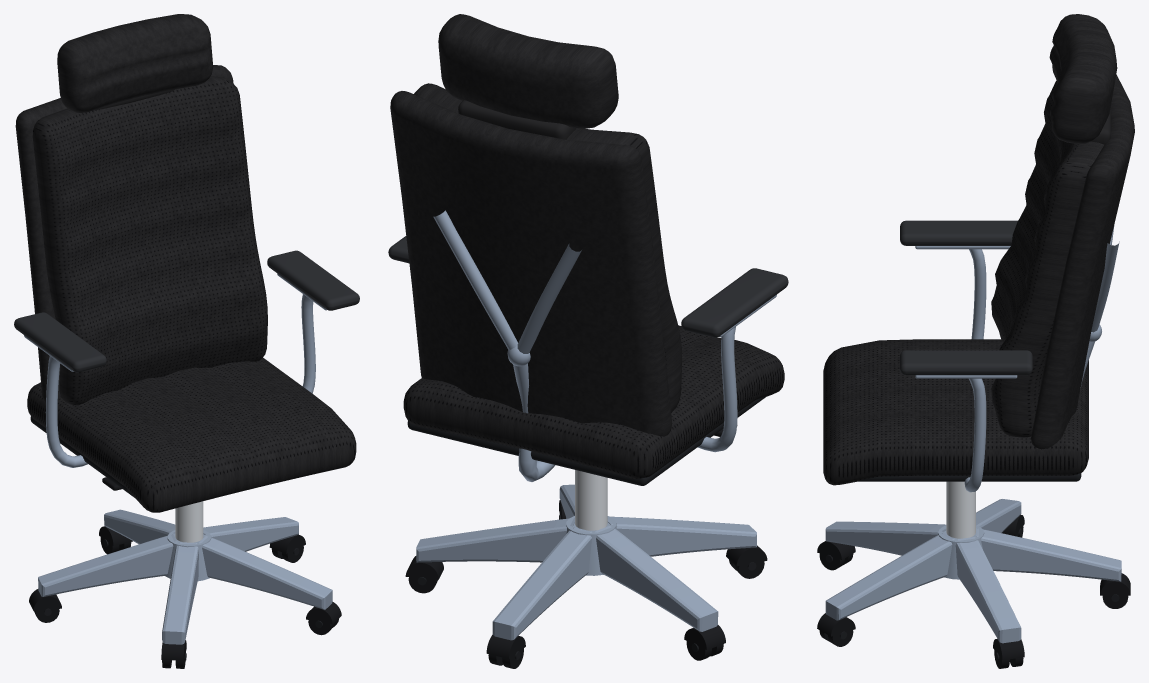
The model's file is Office_Manager_Executive_Chair.glb.
3 renders of one model, left to right at view 1: azimuth 30°, elevation 25°; view 2: azimuth 150°, elevation 25°; view 3: azimuth 270°, elevation 25°, orthographic. The views are drawn at different scales.
Visible parts, largest first — view 1: Backrest_Cushion, Seat_Cushion, Headrest_Cushion, Backrest_Shell, Base_Leg_3, Base_Leg_1, Armrest_Pad_R, Armrest_Pad_L, Base_Leg_2, Base_Leg_4, Base_Leg_0, Armrest_Post_R (+3 smaller); view 2: Backrest_Shell, Seat_Cushion, Headrest_Cushion, Base_Leg_1, Backrest_Cushion, Base_Leg_4, Base_Leg_0, Base_Leg_2, Armrest_Pad_R, Seat_Shell, Spine_Fork_L, Armrest_Post_R (+9 smaller); view 3: Seat_Cushion, Backrest_Cushion, Backrest_Shell, Headrest_Cushion, Base_Leg_3, Base_Leg_0, Armrest_Pad_L, Base_Leg_4, Armrest_Pad_R, Base_Leg_2, GasLift_Sleeve, Armrest_Post_L (+9 smaller).
Boxes of the visible parts, box(x1,y1,x2,y2) form: Backrest_Cushion: box(32, 76, 267, 405); Seat_Cushion: box(27, 358, 356, 512); Headrest_Cushion: box(57, 14, 213, 112); Backrest_Shell: box(15, 65, 233, 402); Base_Leg_3: box(199, 535, 332, 609); Base_Leg_1: box(38, 534, 176, 596); Armrest_Pad_R: box(14, 312, 106, 372); Armrest_Pad_L: box(267, 250, 359, 310); Base_Leg_2: box(162, 542, 198, 644); Base_Leg_4: box(203, 517, 298, 551); Base_Leg_0: box(104, 509, 175, 544); Armrest_Post_R: box(45, 356, 87, 467); Backrest_Shell: box(390, 91, 672, 436); Seat_Cushion: box(403, 325, 784, 478); Headrest_Cushion: box(438, 14, 618, 128); Base_Leg_1: box(595, 526, 718, 631); Backrest_Cushion: box(414, 83, 681, 412); Base_Leg_4: box(416, 518, 574, 562); Base_Leg_0: box(492, 527, 591, 640); Base_Leg_2: box(607, 516, 756, 556); Armrest_Pad_R: box(681, 268, 788, 337); Seat_Shell: box(407, 396, 766, 485); Spine_Fork_L: box(433, 210, 517, 349); Armrest_Post_R: box(697, 327, 737, 452); Seat_Cushion: box(823, 339, 1088, 485); Backrest_Cushion: box(991, 80, 1104, 437); Backrest_Shell: box(1031, 74, 1134, 449); Headrest_Cushion: box(1049, 14, 1117, 143); Base_Leg_3: box(825, 532, 954, 620); Base_Leg_0: box(976, 528, 1121, 581); Armrest_Pad_L: box(900, 350, 1032, 375); Base_Leg_4: box(955, 537, 1021, 643); Armrest_Pad_R: box(900, 220, 1017, 245); Base_Leg_2: box(825, 521, 946, 555); GasLift_Sleeve: box(946, 481, 975, 538); Armrest_Post_L: box(964, 378, 986, 492).
Bounding box in the file's own units: 0.68 × 1.21 × 0.6221.
7 materials, 2 textured.
